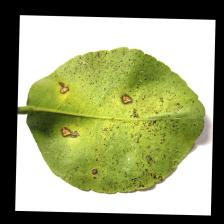canker: (70, 53, 172, 173)
